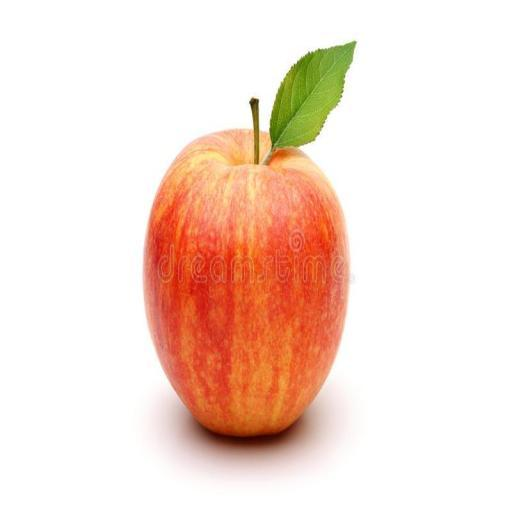apple: (144, 130, 348, 436)
